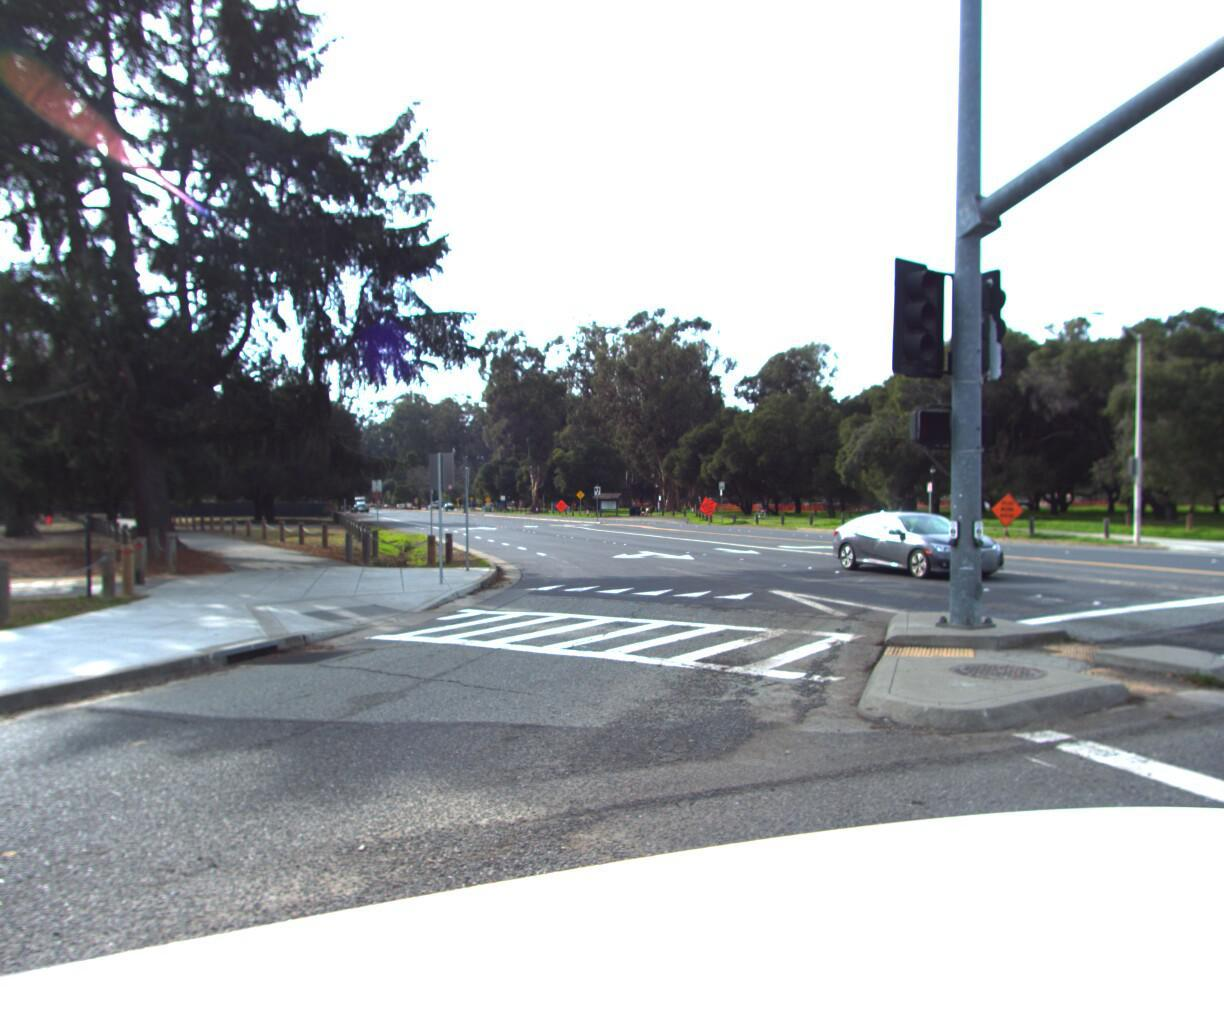car: (819, 504, 1034, 580)
